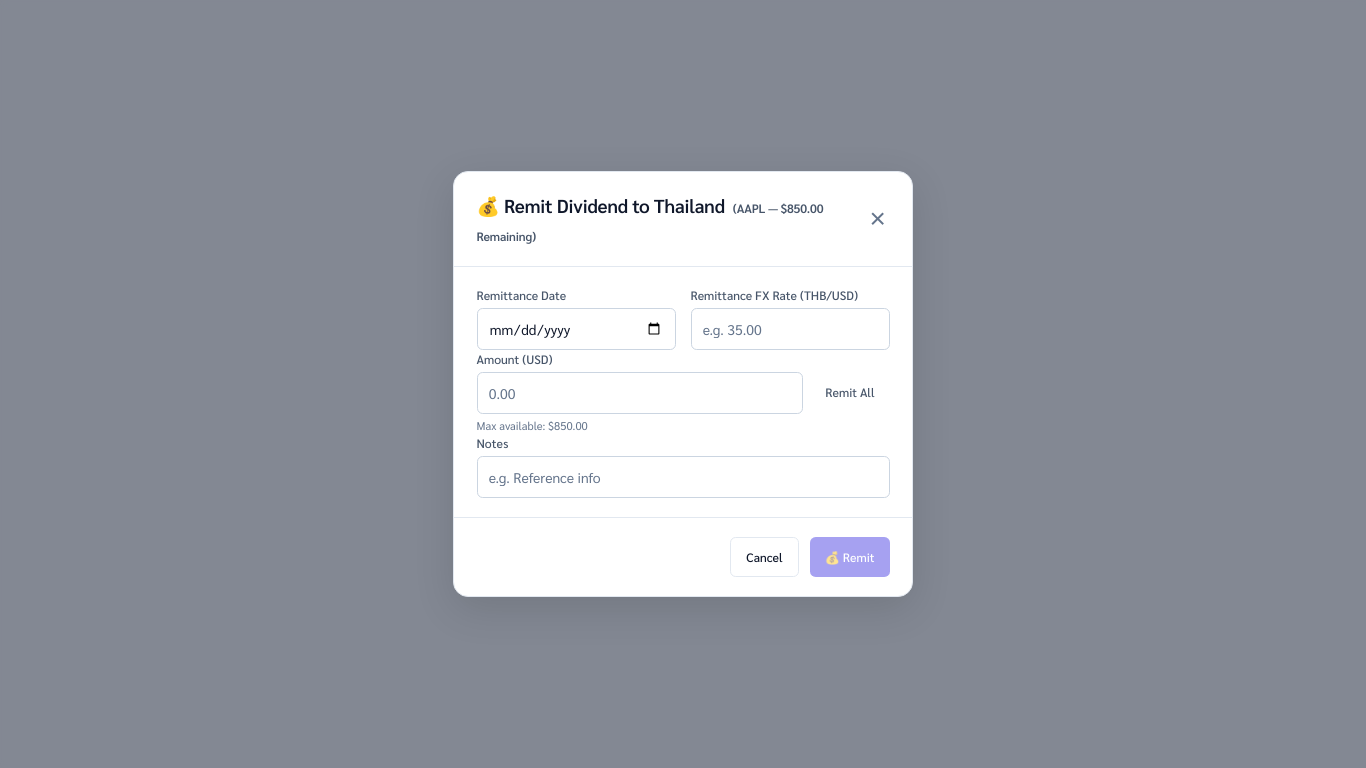
Test: DividendRemitForm pre-flight and close behaviour › keeps the dialog open with an inline message when the submit prop returns false
In the number field with id "dremit-amount": coordinates (640, 393) x1=476 y1=372 x2=803 y2=414, type "100"
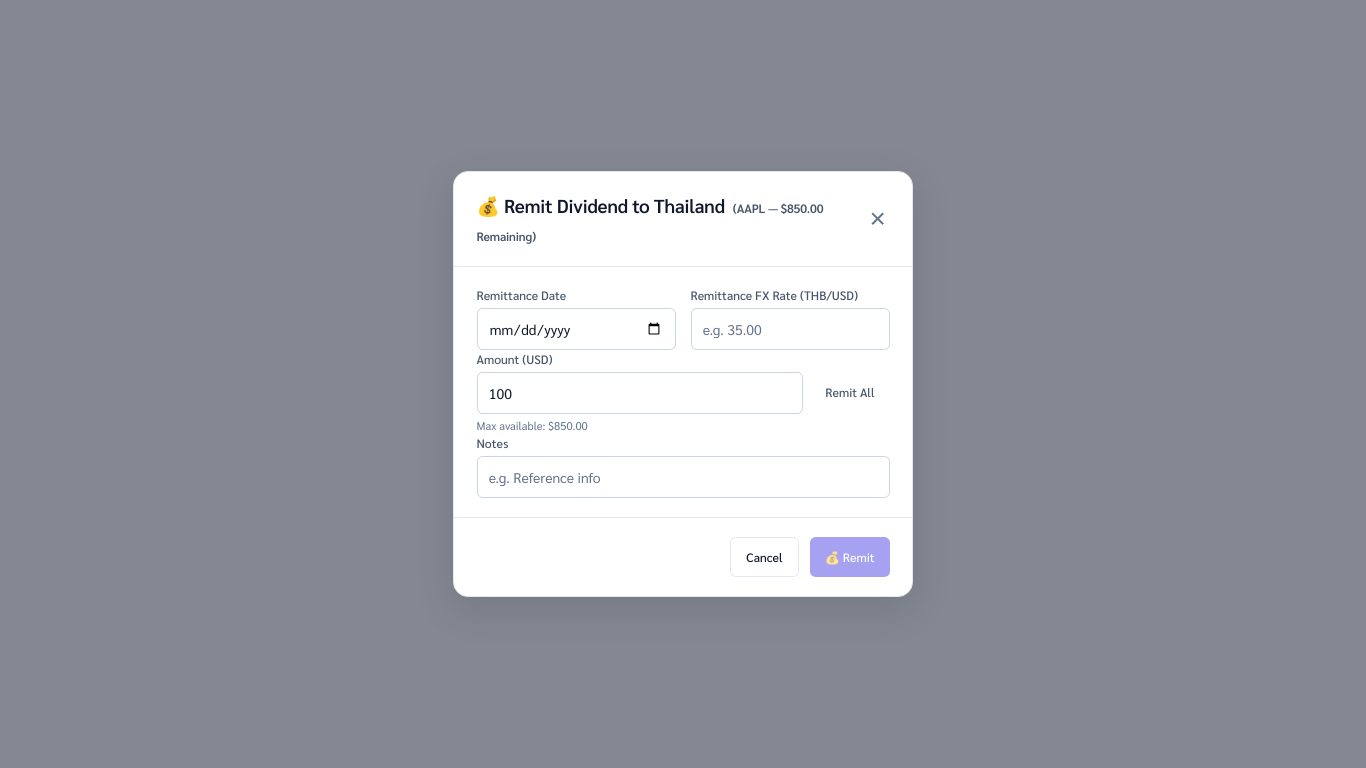
In the number field with id "dremit-fx": coordinates (790, 329) x1=690 y1=308 x2=890 y2=350, type "35"
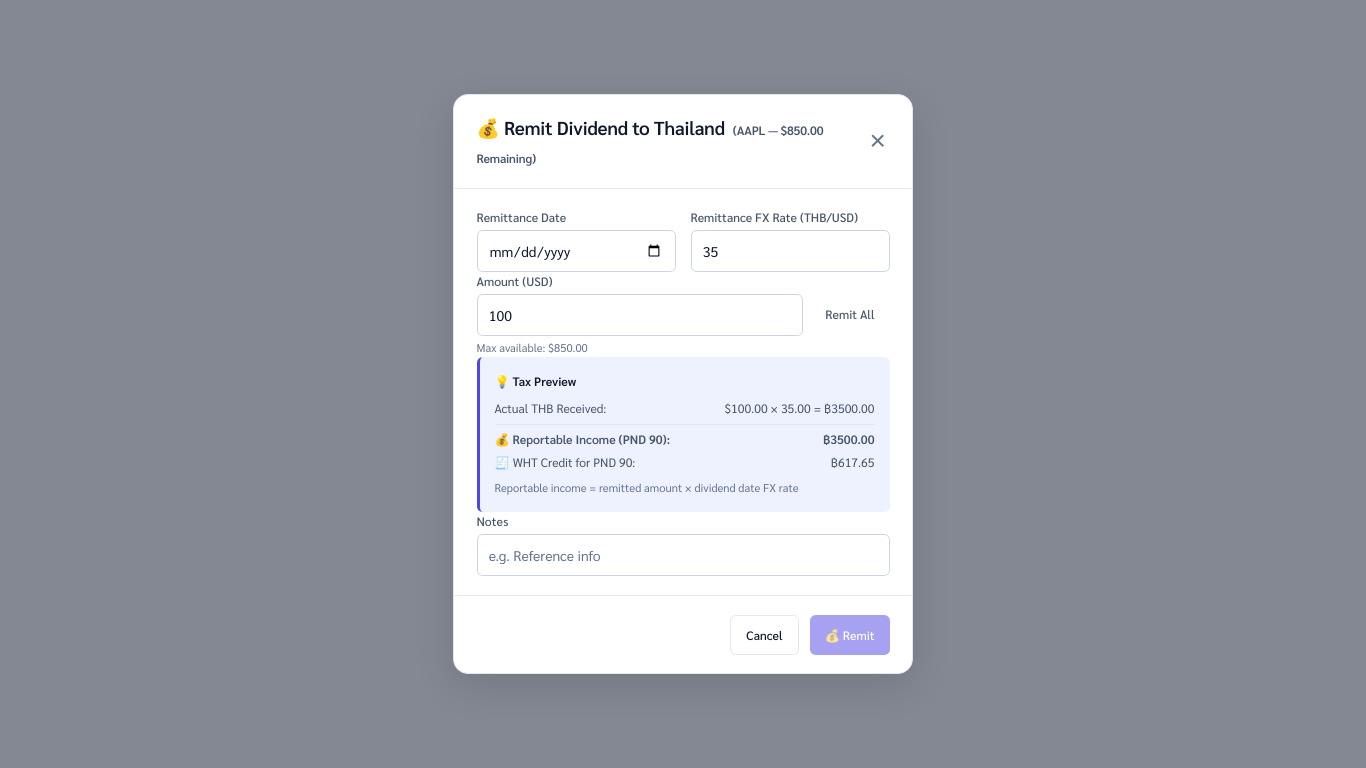
In the date field with id "dremit-date": coordinates (576, 251) x1=476 y1=230 x2=676 y2=272, type "2026-10-10"
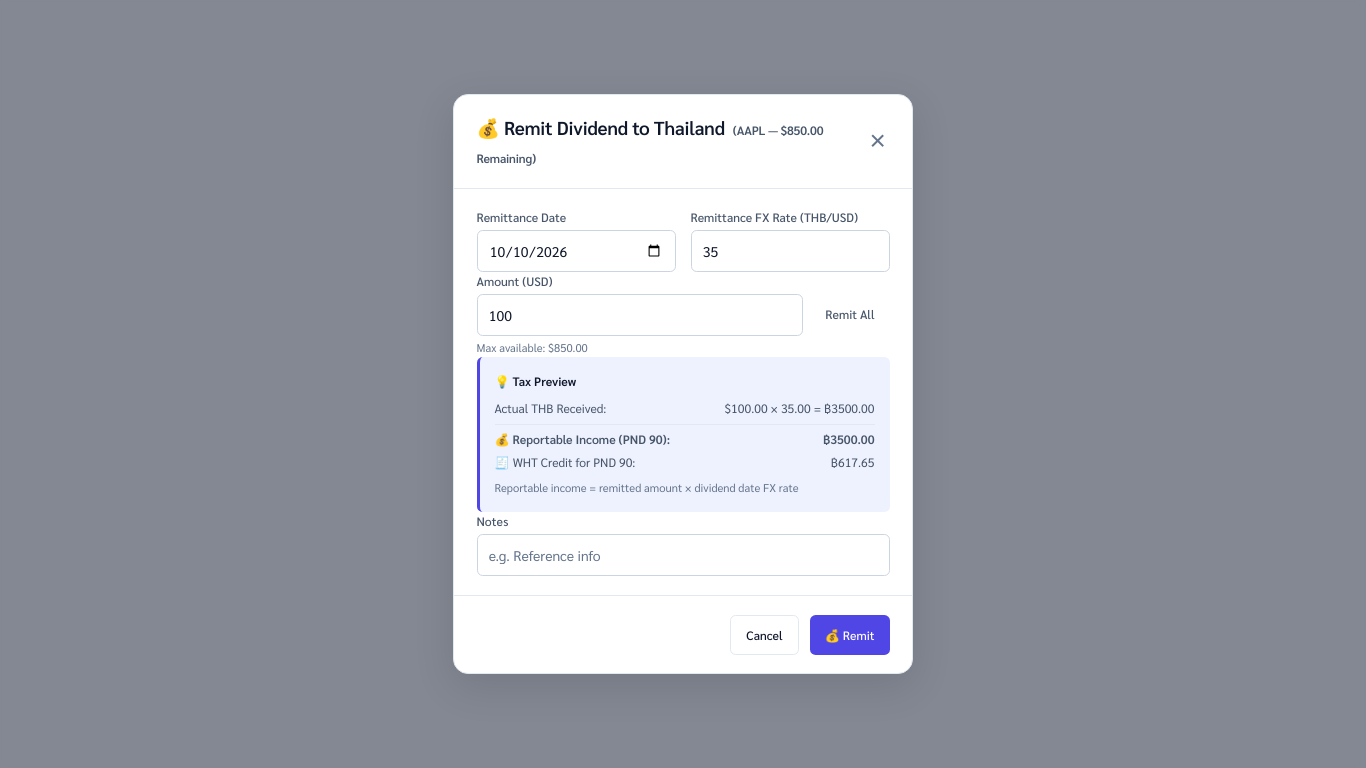
Click the button "💰 Remit": coordinates (850, 635) x1=810 y1=615 x2=890 y2=655
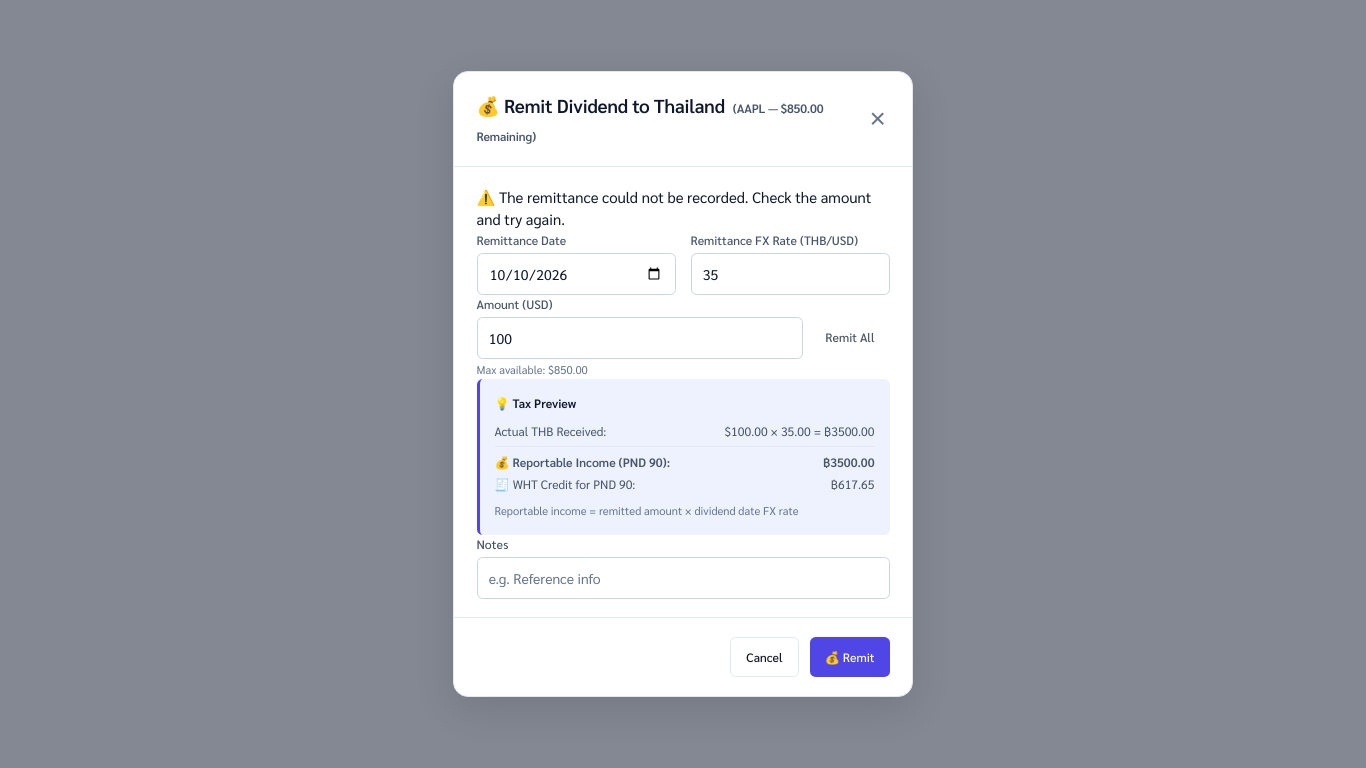
Check: the element with class "form-error-banner" does not show ""
Check: the text with class "form-error-banner" is shown, box x1=476 y1=186 x2=890 y2=230
